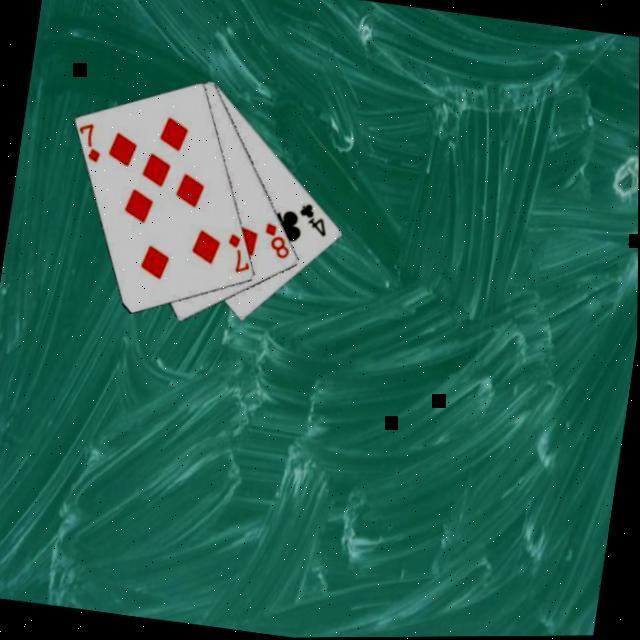4C: (295, 201, 336, 242)
7D: (223, 232, 257, 280), (75, 122, 109, 168)
8D: (260, 222, 298, 266)
